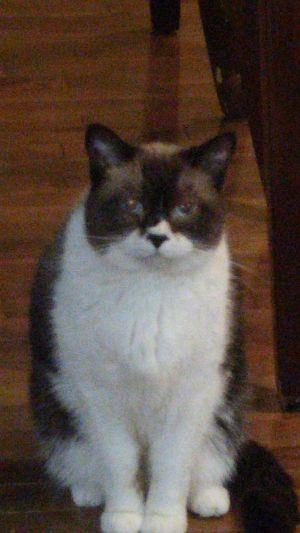ragdoll: (81, 117, 246, 285)
